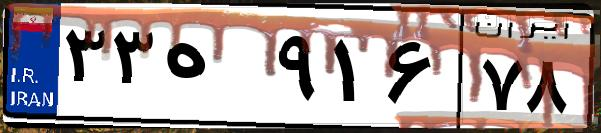1: (330, 28, 385, 110)
3: (57, 26, 110, 100), (110, 28, 158, 98)
6: (385, 28, 445, 110)
7: (475, 38, 525, 113)
8: (525, 38, 570, 115)
9: (270, 28, 330, 110)
ه: (158, 20, 270, 120)
